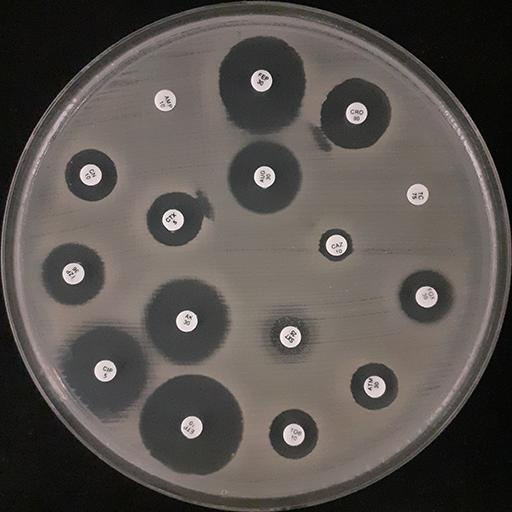disc: (62, 262, 85, 285), (176, 310, 198, 333), (279, 326, 302, 348), (94, 360, 116, 383), (154, 90, 176, 112), (250, 70, 272, 92), (346, 102, 368, 124), (254, 166, 276, 188), (80, 164, 102, 186), (162, 209, 184, 231), (326, 234, 348, 256), (407, 184, 429, 206), (416, 286, 438, 308), (364, 376, 386, 398), (181, 416, 203, 438), (283, 424, 305, 446)
